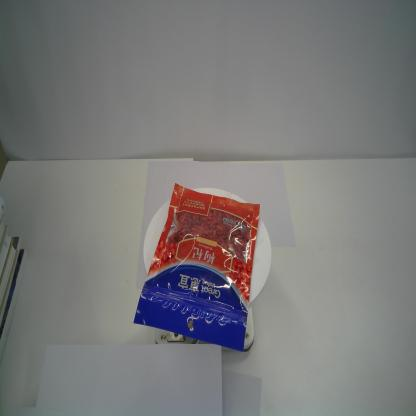Dried Fruit: (132, 182, 260, 351)
